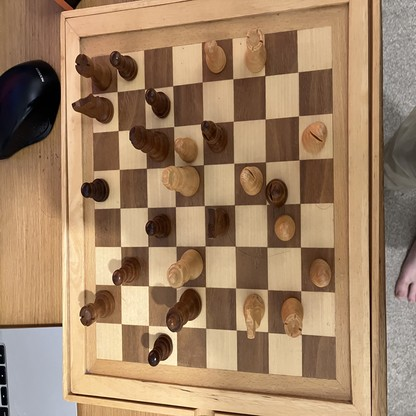bishop_black: (201, 120, 228, 154), (266, 180, 287, 205)
bishop_white: (303, 122, 327, 152), (241, 166, 263, 195)
king_black: (129, 127, 169, 160)
king_white: (162, 165, 199, 197)
knight_black: (72, 95, 113, 124), (206, 207, 229, 239)
knight_white: (244, 294, 264, 339)
pawn_black: (112, 257, 142, 285), (110, 52, 138, 80), (145, 89, 171, 119), (149, 335, 173, 366), (82, 179, 110, 202), (146, 215, 172, 239)
pawn_white: (204, 39, 226, 72), (310, 259, 331, 287), (175, 138, 198, 162), (275, 215, 295, 242)
queen_black: (166, 289, 202, 331)
queen_white: (167, 250, 203, 287)
rock_black: (75, 54, 112, 90), (79, 291, 114, 326)
rock_white: (245, 27, 267, 72), (282, 298, 303, 338)
